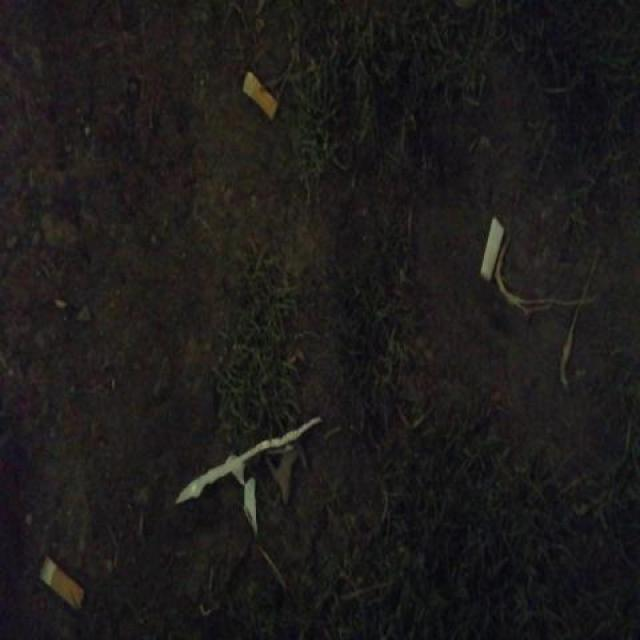non-organic waste: (36, 548, 88, 617), (235, 63, 281, 125), (476, 212, 509, 285)
